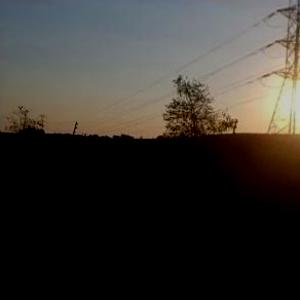follow: (117, 146, 187, 299)
